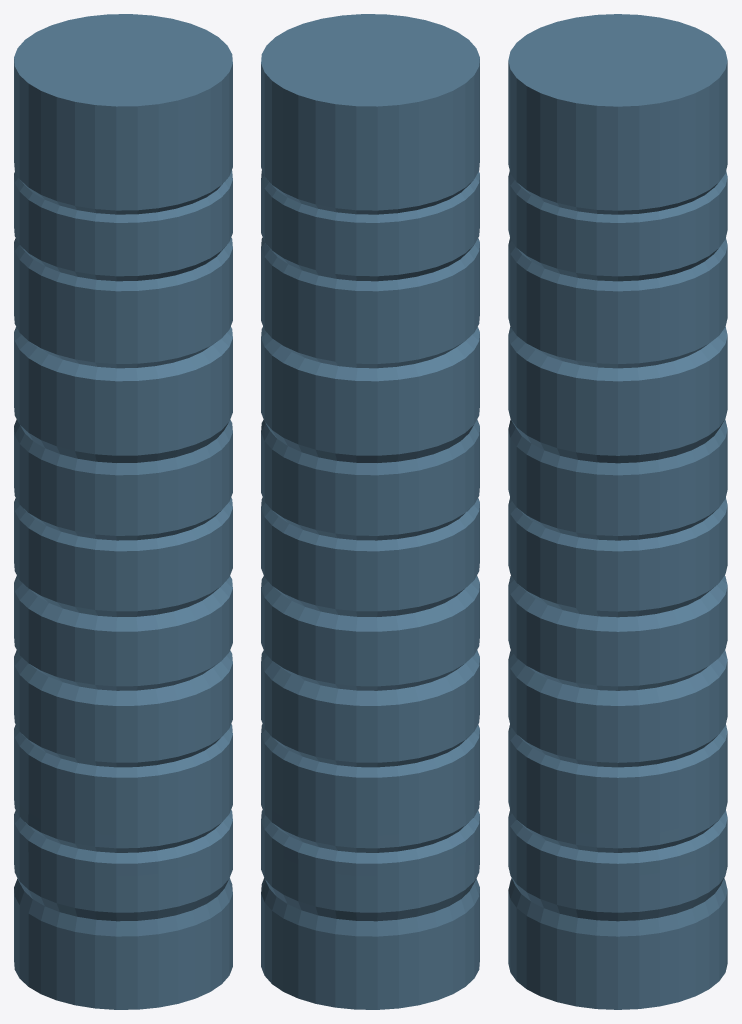
The model's file is Blue pillar for Adelaide Railway.fbx.
3 views of the same model, side by side, from view 1: azimuth 30°, elevation 25°; view 2: azimuth 150°, elevation 25°; view 3: azimuth 270°, elevation 25° (orthographic).
Parts seen in each view (by area): view 1: Cylinder.006; view 2: Cylinder.006; view 3: Cylinder.006.
Part boxes in pixels (left/top/right/bottom): Cylinder.006: left=14, top=14, right=232, bottom=1009; Cylinder.006: left=261, top=14, right=479, bottom=1009; Cylinder.006: left=508, top=14, right=727, bottom=1009.
Bounding box in the file's own units: 4.97 × 4.97 × 22.57.
